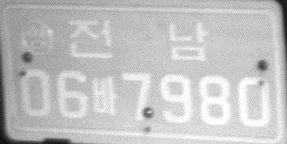0: (236, 75, 271, 128), (19, 68, 51, 118)
6: (55, 69, 88, 119)
7: (121, 70, 151, 121)
8: (197, 73, 232, 126)
9: (160, 72, 194, 123)
바: (90, 74, 117, 117)
영: (19, 18, 55, 57)
전남_D: (67, 17, 208, 62)
